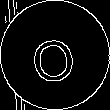O_N: (30, 26, 80, 84)
